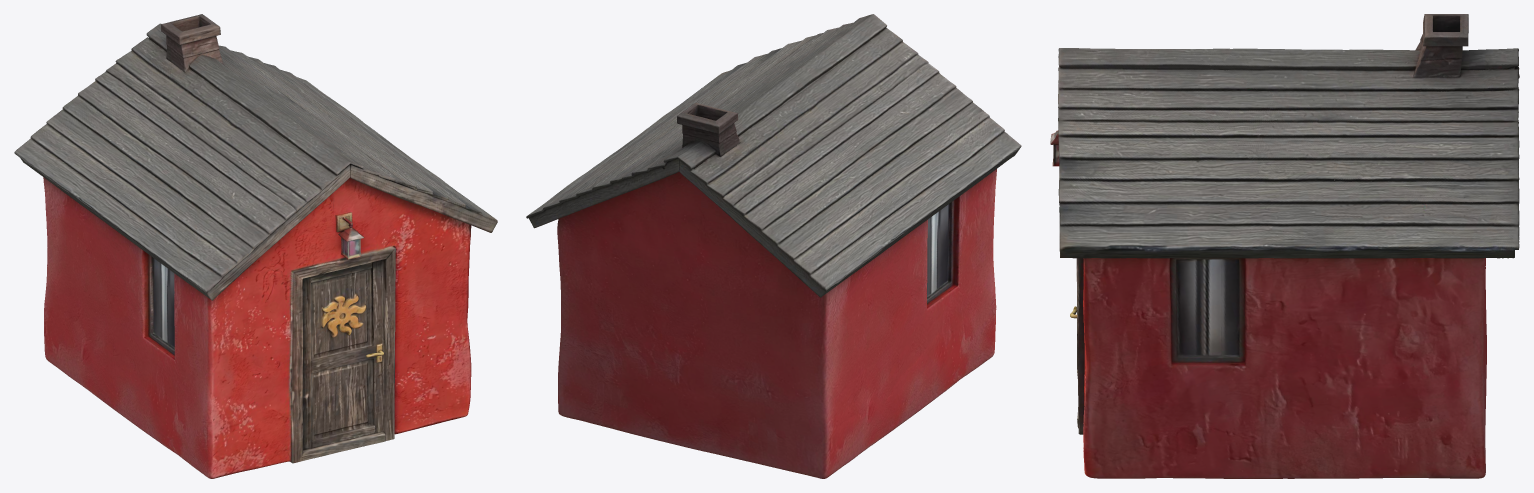
The model's file is cabin_custom.glb.
3 renders of one model, left to right at view 1: azimuth 30°, elevation 25°; view 2: azimuth 150°, elevation 25°; view 3: azimuth 270°, elevation 25°, orthographic. The views are drawn at different scales.
Visible parts, largest first — view 1: model.002; view 2: model.002; view 3: model.002.
Part boxes in pixels (x1,y1,x2,y2): model.002: (14, 14, 497, 478); model.002: (526, 14, 1021, 478); model.002: (1050, 14, 1519, 478).
Size of the model in its own units: 1.58 by 1.63 by 1.82.
1 material, 1 textured.
